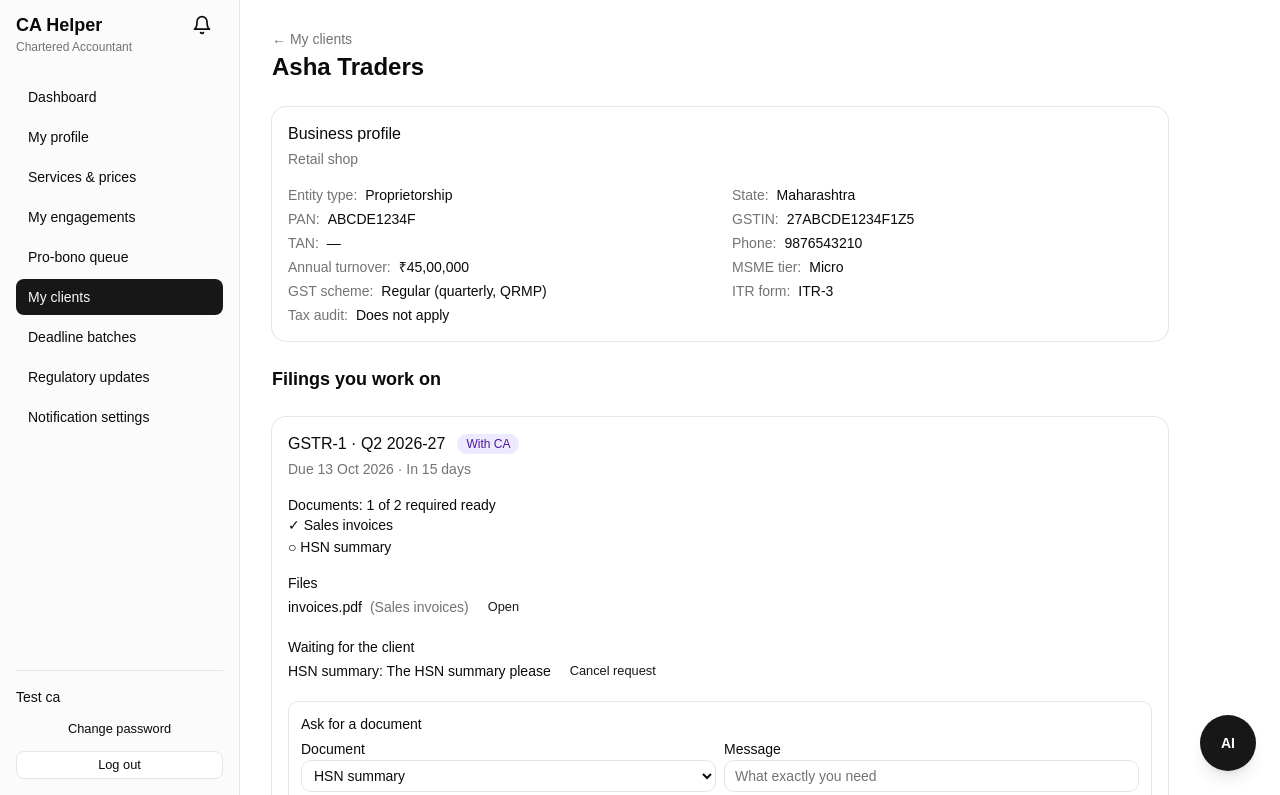
Test case: client workspace › asks the client for a document
Type "Send the HSN summary" into the field labelled "Message" at [932, 776], box [724,760,1139,792]
(page scrolled)
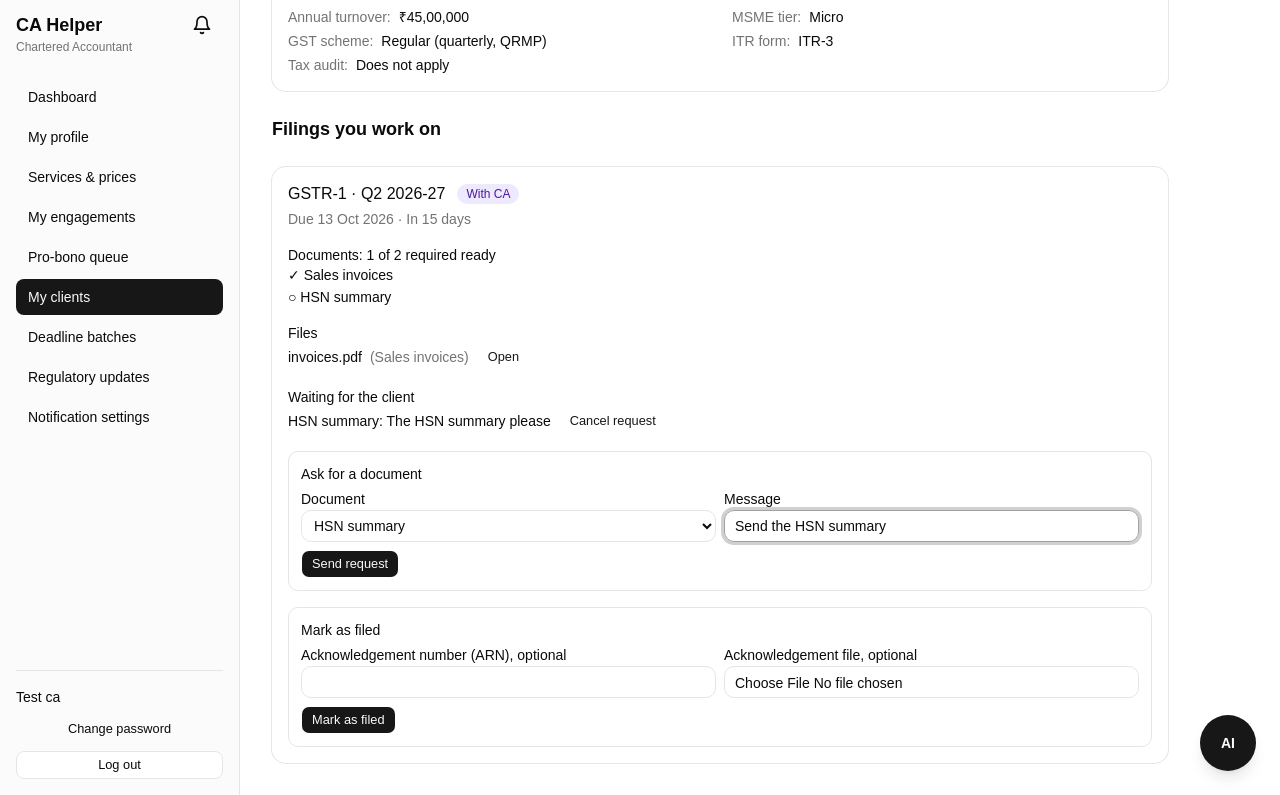
Click the button "Send request" at [350, 564], box [301,550,399,578]
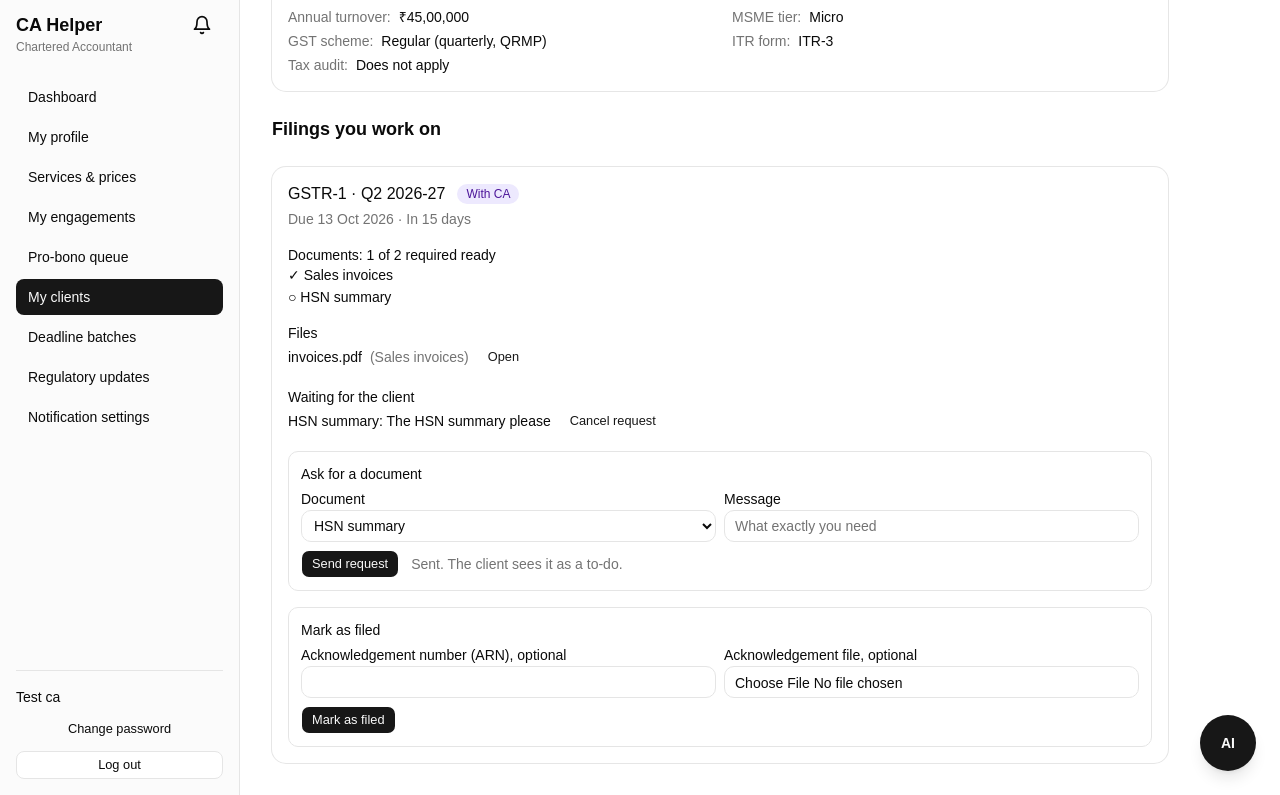
Expected: the text "Sent. The client sees it as a to-do." is shown, [411,554,622,574]
